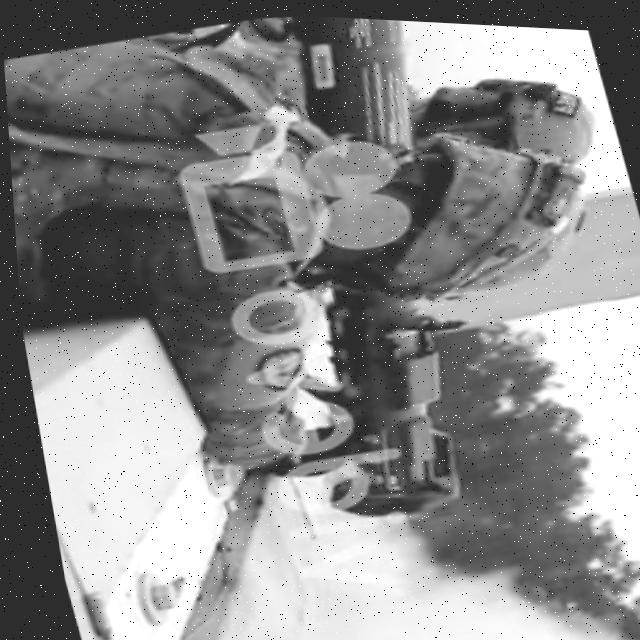rocket: (205, 8, 521, 532)
